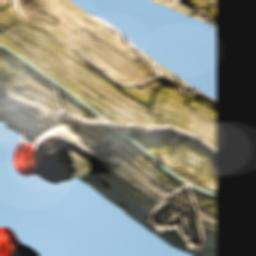Woodpecker: (9, 83, 123, 220)
